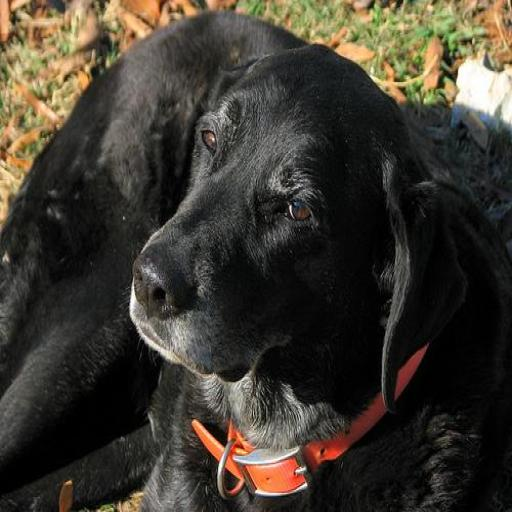dog_face: (141, 58, 422, 412)
